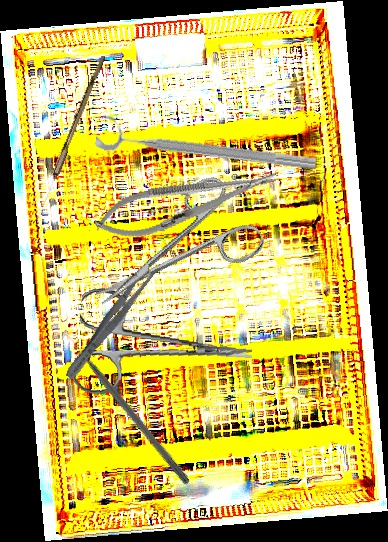Dressing Forceps: (60, 254, 165, 384)
Fixation Ring: (94, 112, 319, 177)
Iris Scissors: (73, 168, 269, 336), (71, 286, 258, 411)
Needle Holder: (90, 156, 282, 249)
Pusher: (65, 332, 193, 486)
Surgical Spoon: (35, 53, 106, 221)
